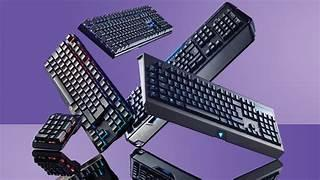keyboard: (117, 0, 263, 154), (136, 51, 284, 154), (35, 31, 144, 158), (77, 4, 173, 58), (25, 113, 84, 147)
